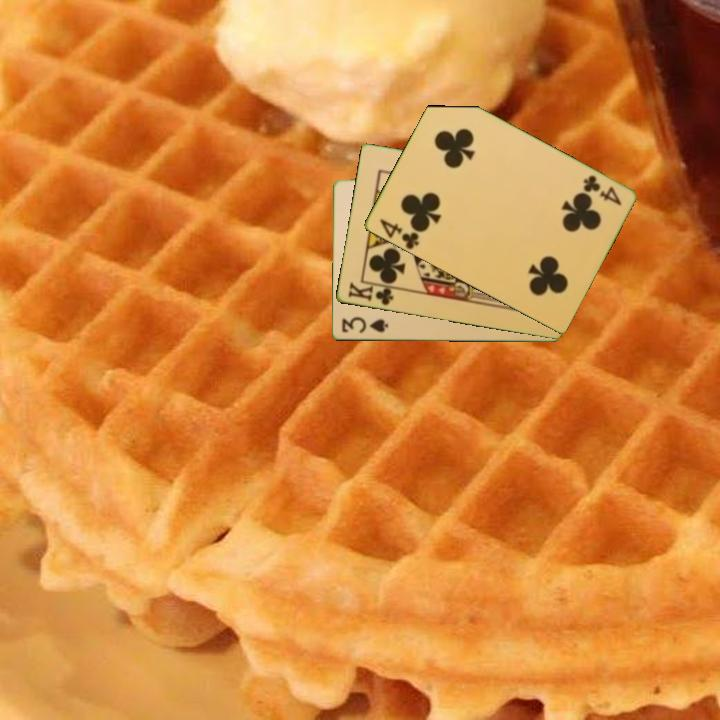3s: (338, 314, 391, 336)
4c: (579, 171, 624, 209), (376, 215, 421, 252)
Kc: (344, 279, 400, 308)
